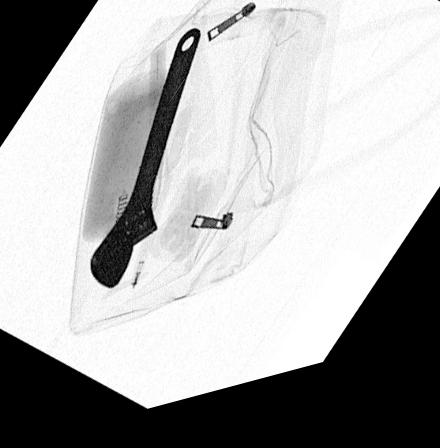Wrench: (86, 36, 198, 293)
